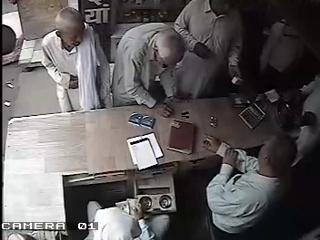Normal: (202, 132, 297, 238), (40, 7, 111, 113), (111, 22, 186, 118), (173, 0, 244, 100)
